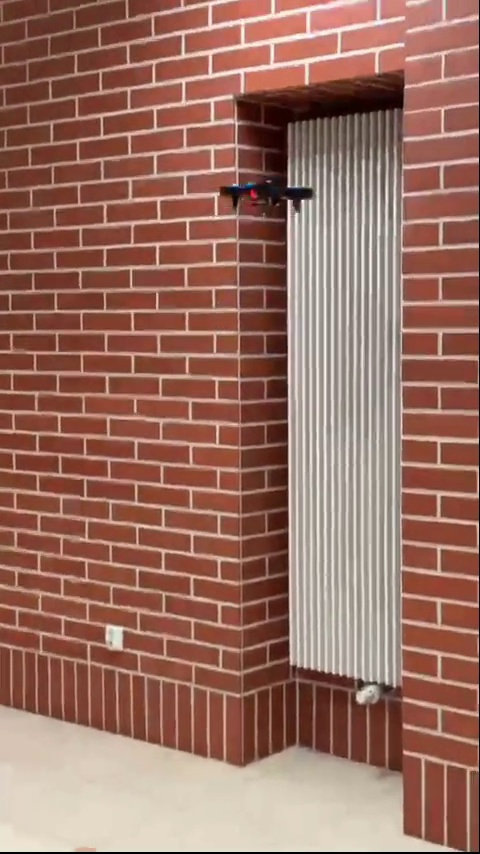drone: (217, 168, 310, 207)
